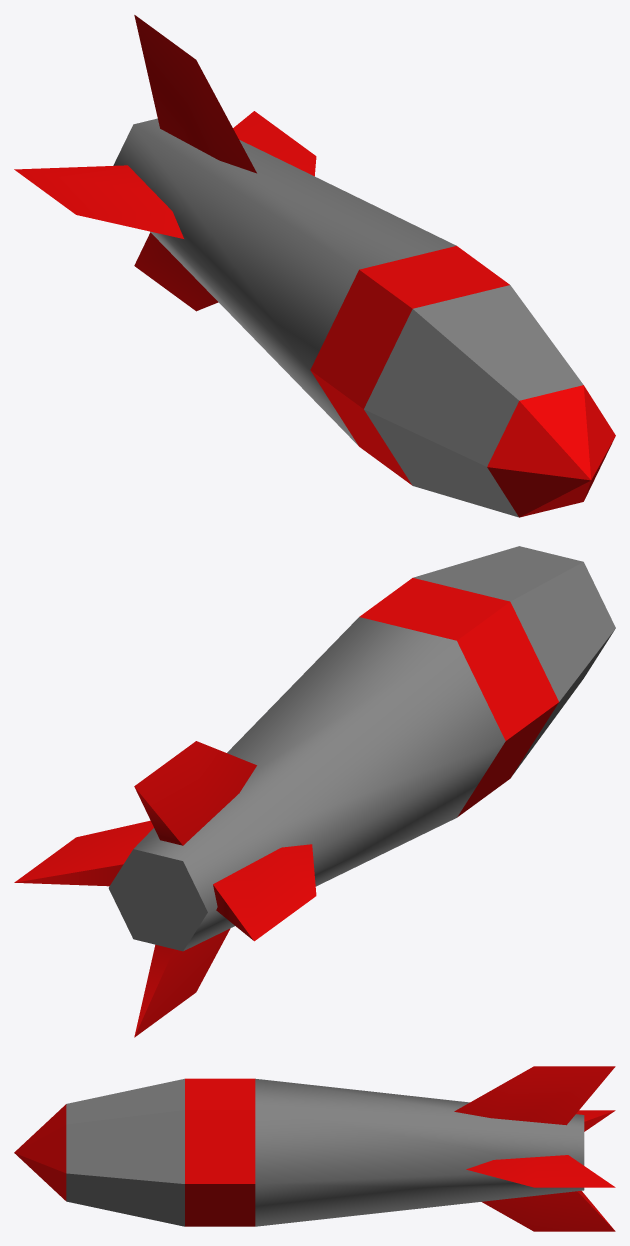
Rendered from rocket.fbx.
3 renders of one model, top to bottom at view 1: azimuth 30°, elevation 25°; view 2: azimuth 150°, elevation 25°; view 3: azimuth 270°, elevation 25°, orthographic. The views are drawn at different scales.
Parts seen in each view (by area): view 1: rocket; view 2: rocket; view 3: rocket.
Boxes of the visible parts, x1,y1,x2,y2 form: rocket: [14, 15, 615, 517]; rocket: [14, 546, 615, 1037]; rocket: [14, 1066, 615, 1231].
Bounding box in the file's own units: 0.1818 × 0.5987 × 0.1818.
